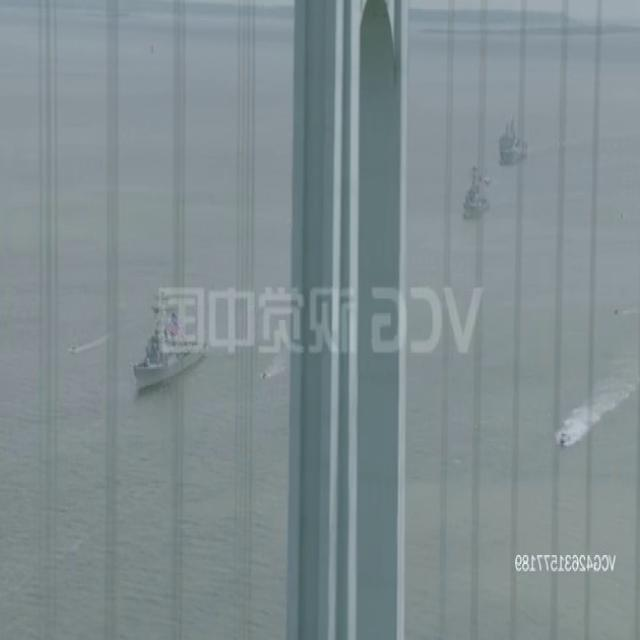houseboat: (554, 424, 575, 448), (261, 363, 272, 384), (69, 338, 78, 358), (614, 302, 620, 316)
navalvessels: (130, 288, 211, 384), (459, 161, 490, 222), (498, 116, 530, 165)
